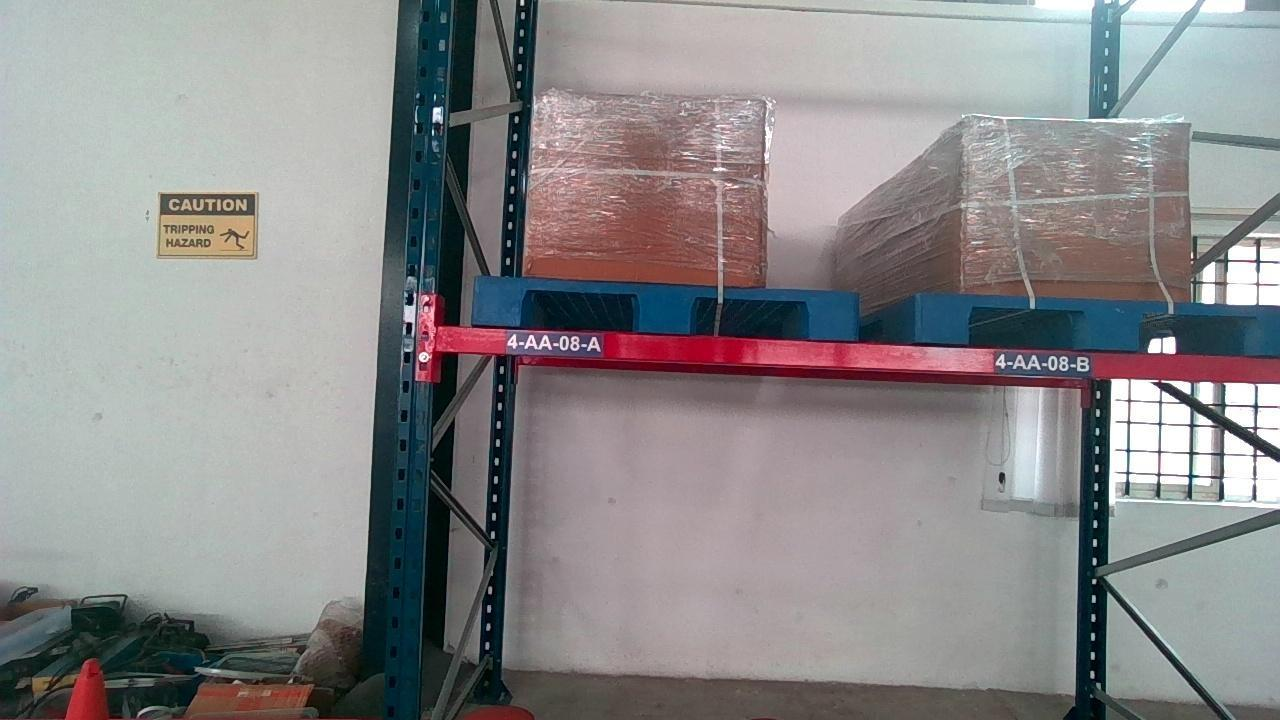h_rack: (439, 326, 1280, 380)
small_pallet: (471, 280, 856, 332), (917, 295, 1276, 349)
